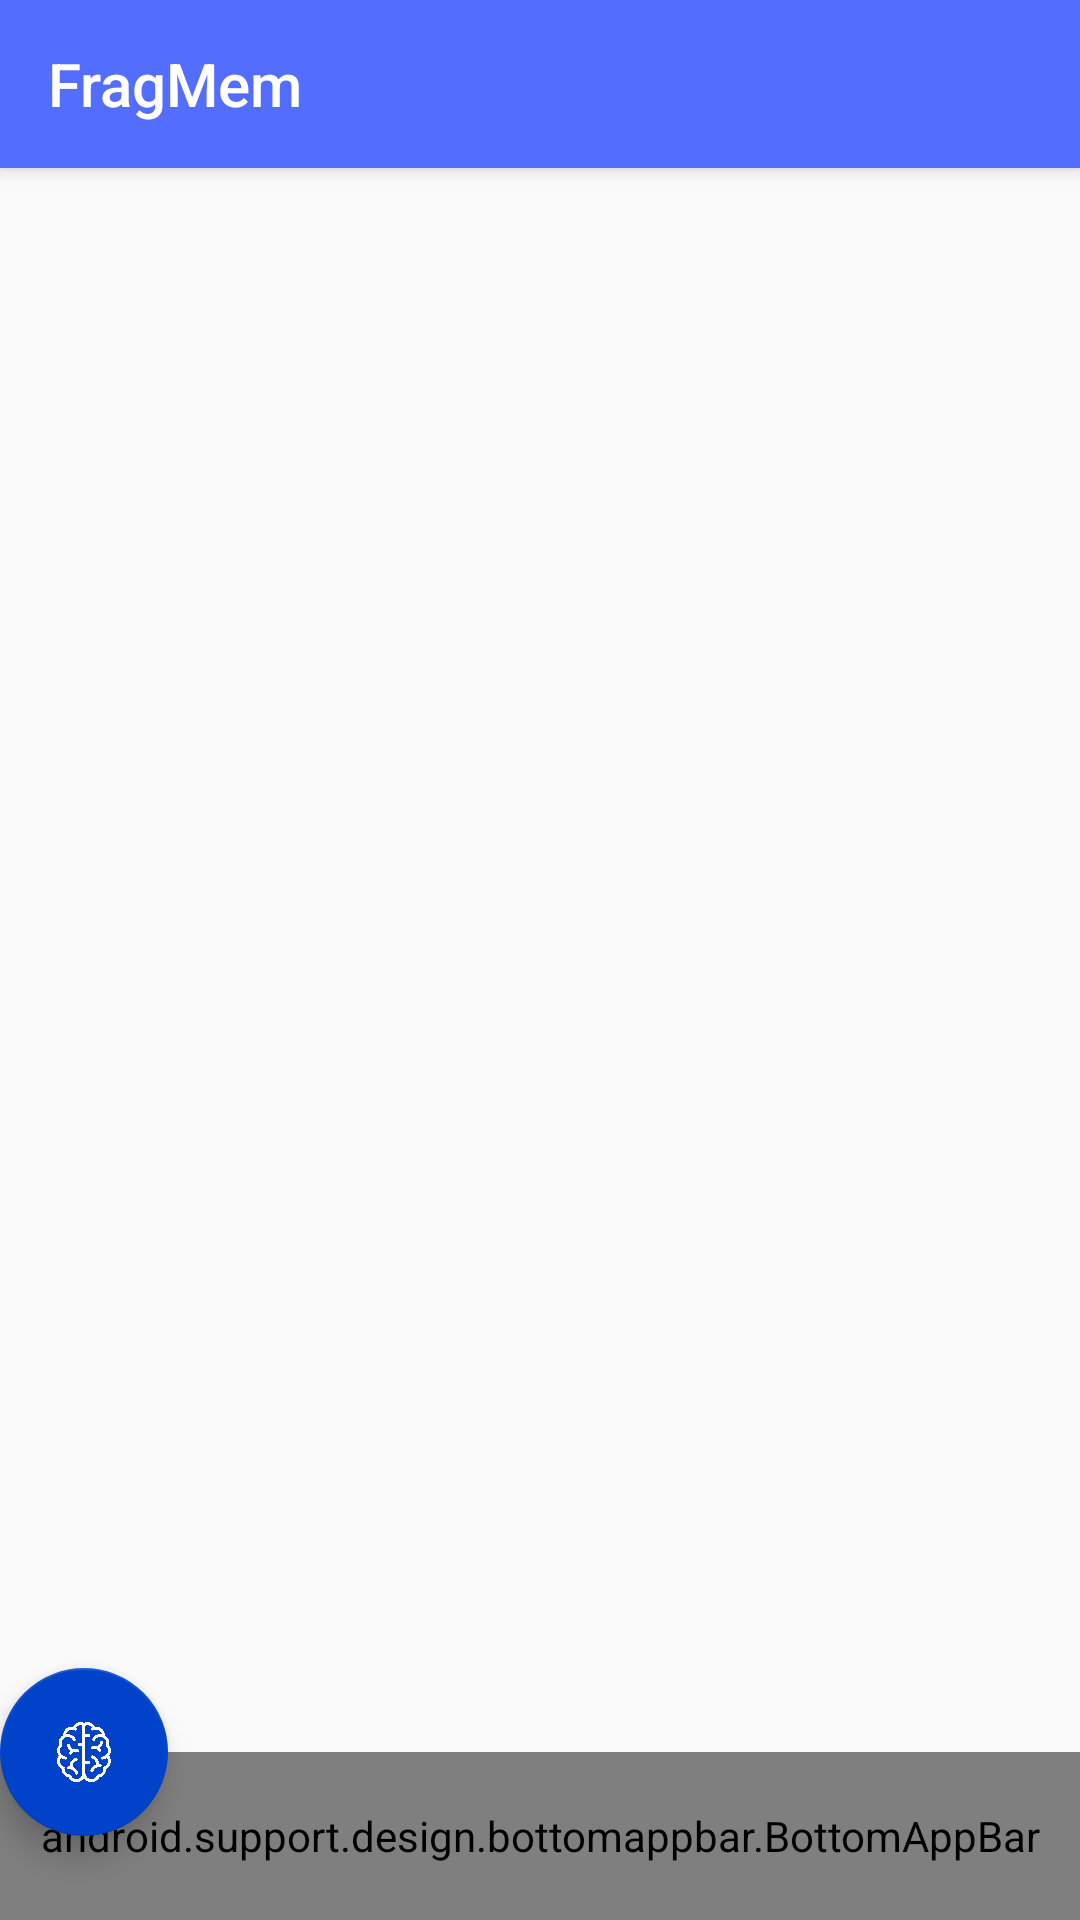

Named icons in this screenshot (1080 × 1920) and their centers, (x=x, y=y):
brain: (x=84, y=1752)
